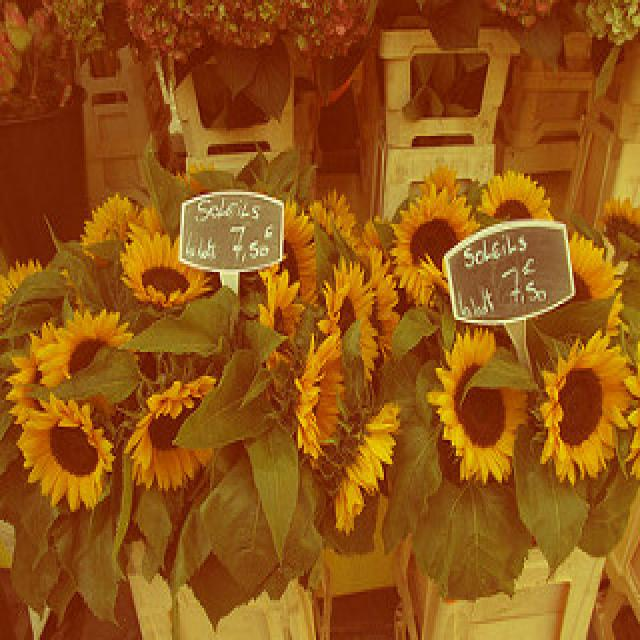sunflower: (433, 322, 525, 487), (541, 332, 632, 482), (15, 392, 114, 513), (127, 372, 220, 487), (333, 403, 400, 537), (394, 190, 474, 300), (120, 227, 210, 307), (325, 264, 383, 379), (300, 334, 344, 461), (258, 264, 296, 383)
